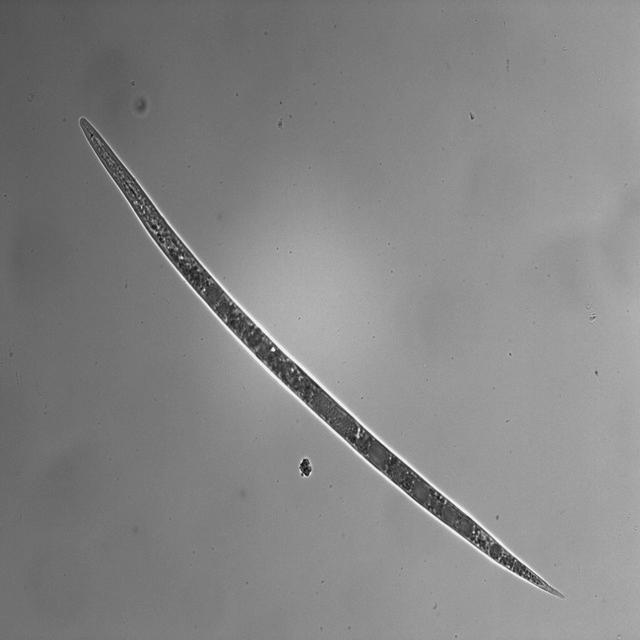Meloidogyne: (73, 115, 572, 604)
